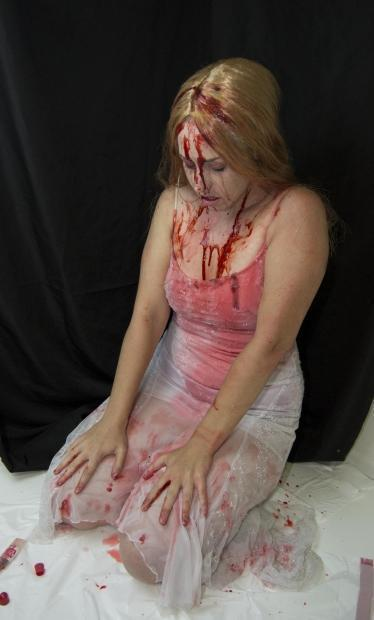Fire: (36, 186, 304, 611), (171, 73, 235, 146), (178, 121, 229, 192), (262, 483, 317, 544), (264, 524, 290, 574), (0, 539, 25, 572), (102, 535, 121, 564), (34, 564, 45, 578), (0, 593, 8, 606)
